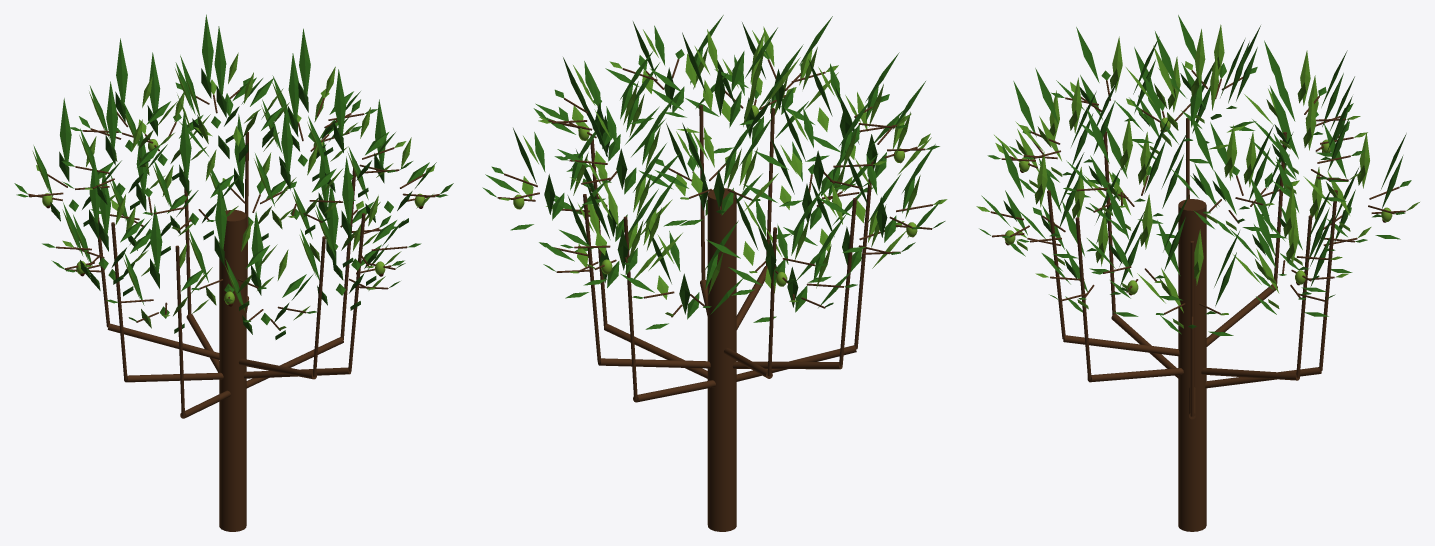
Rendered from Diofa.obj.
3 renders of one model, left to right at view 1: azimuth 30°, elevation 25°; view 2: azimuth 150°, elevation 25°; view 3: azimuth 270°, elevation 25°, orthographic. The views are drawn at different scales.
Bounding box in the file's own units: 4.5 × 5.4 × 4.39.
